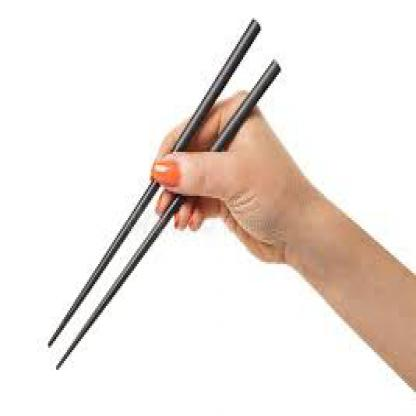chopstick: (56, 59, 281, 370), (48, 18, 260, 344)
